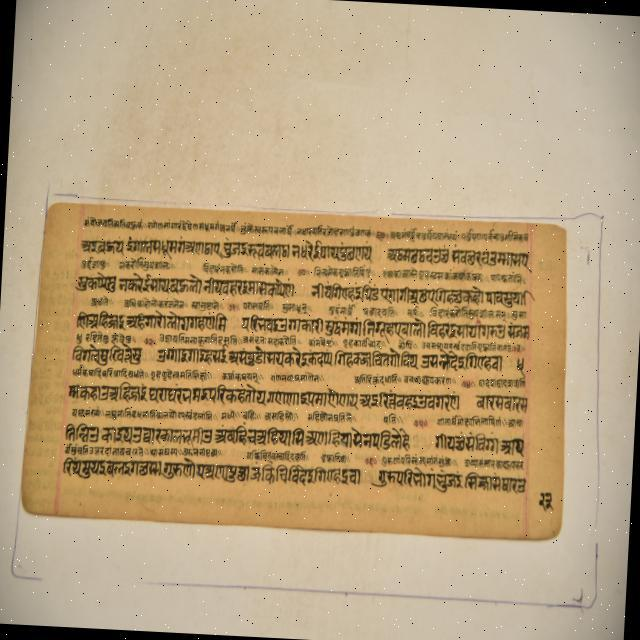text_paragraph: (20, 199, 563, 540)
